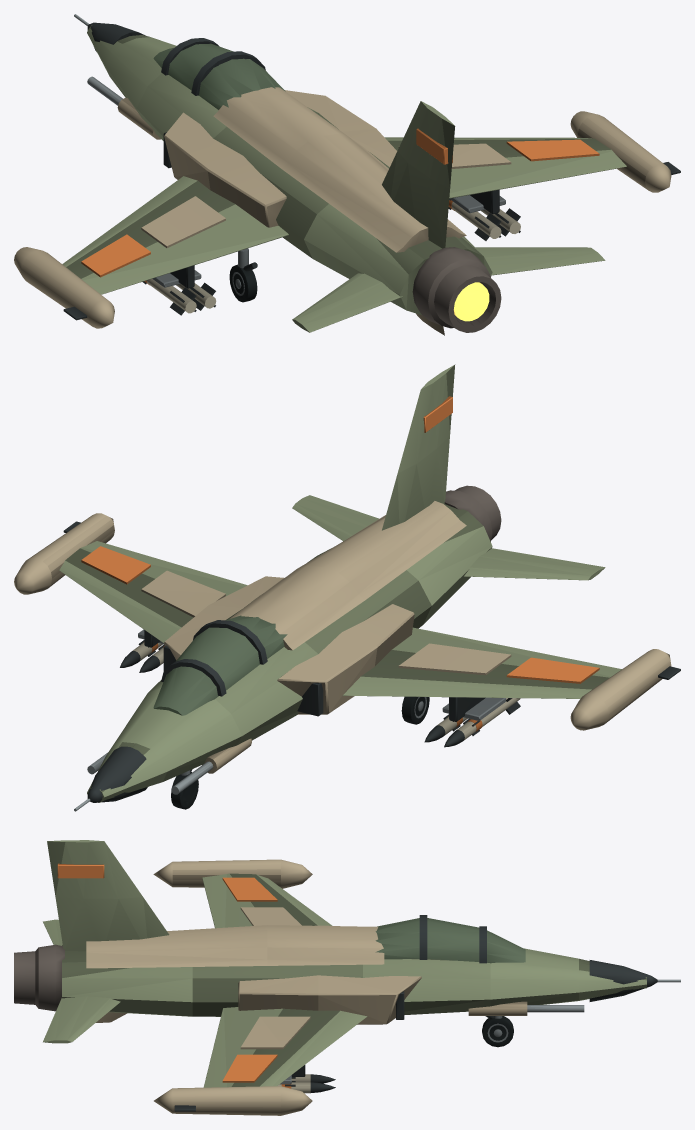
The model's file is HornetFighter.glb.
3 views of the same model, one above another, from view 1: azimuth 30°, elevation 25°; view 2: azimuth 150°, elevation 25°; view 3: azimuth 270°, elevation 25° (orthographic). The views are drawn at different scales.
Parts seen in each view (by area): view 1: export_frontier_HornetFighter_Fuselage; view 2: export_frontier_HornetFighter_Fuselage; view 3: export_frontier_HornetFighter_Fuselage.
Part boxes in pixels (x1,y1,x2,y2): export_frontier_HornetFighter_Fuselage: [14, 14, 680, 335]; export_frontier_HornetFighter_Fuselage: [14, 364, 680, 811]; export_frontier_HornetFighter_Fuselage: [14, 840, 680, 1115].
Size of the model in its own units: 5.48 by 2.12 by 6.27.
